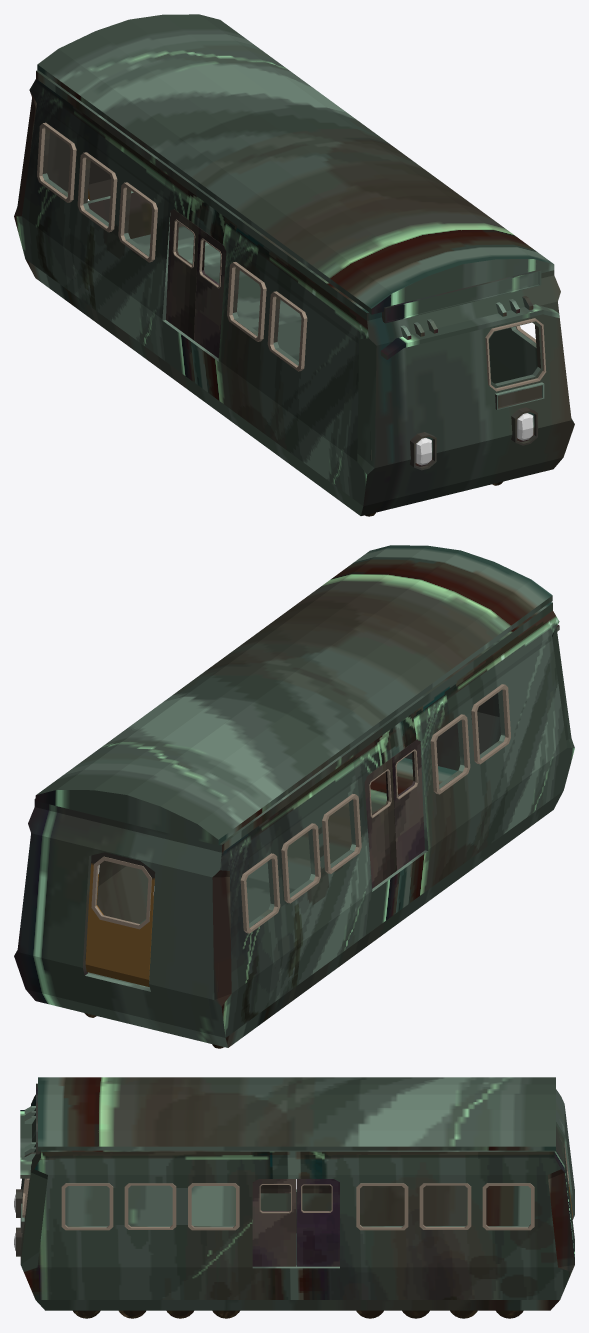
File: SM_TRAINfront.fbx
3 renders of one model, top to bottom at view 1: azimuth 30°, elevation 25°; view 2: azimuth 150°, elevation 25°; view 3: azimuth 270°, elevation 25°, orthographic. The views are drawn at different scales.
Parts seen in each view (by area): view 1: SM_traincar1, SM_trainwindows.001, SM_traindoors.001, SM_trainlights.001; view 2: SM_traincar1, SM_trainwindows.001, SM_traindoors.001; view 3: SM_traincar1, SM_traindoors.001, SM_trainwindows.001, SM_trainwheels.001.
Part boxes in pixels (box(x1,y1,x2,y2)): SM_traincar1: box(14, 14, 574, 515); SM_trainwindows.001: box(37, 122, 546, 391); SM_traindoors.001: box(166, 209, 226, 358); SM_trainlights.001: box(415, 413, 533, 465); SM_traincar1: box(14, 545, 574, 1047); SM_trainwindows.001: box(85, 684, 510, 986); SM_traindoors.001: box(364, 739, 424, 888); SM_traincar1: box(16, 1077, 574, 1310); SM_traindoors.001: box(252, 1179, 339, 1266); SM_trainwindows.001: box(22, 1143, 572, 1230); SM_trainwheels.001: box(73, 1310, 523, 1318).
Size of the model in its own units: 376 by 441 by 1120.
